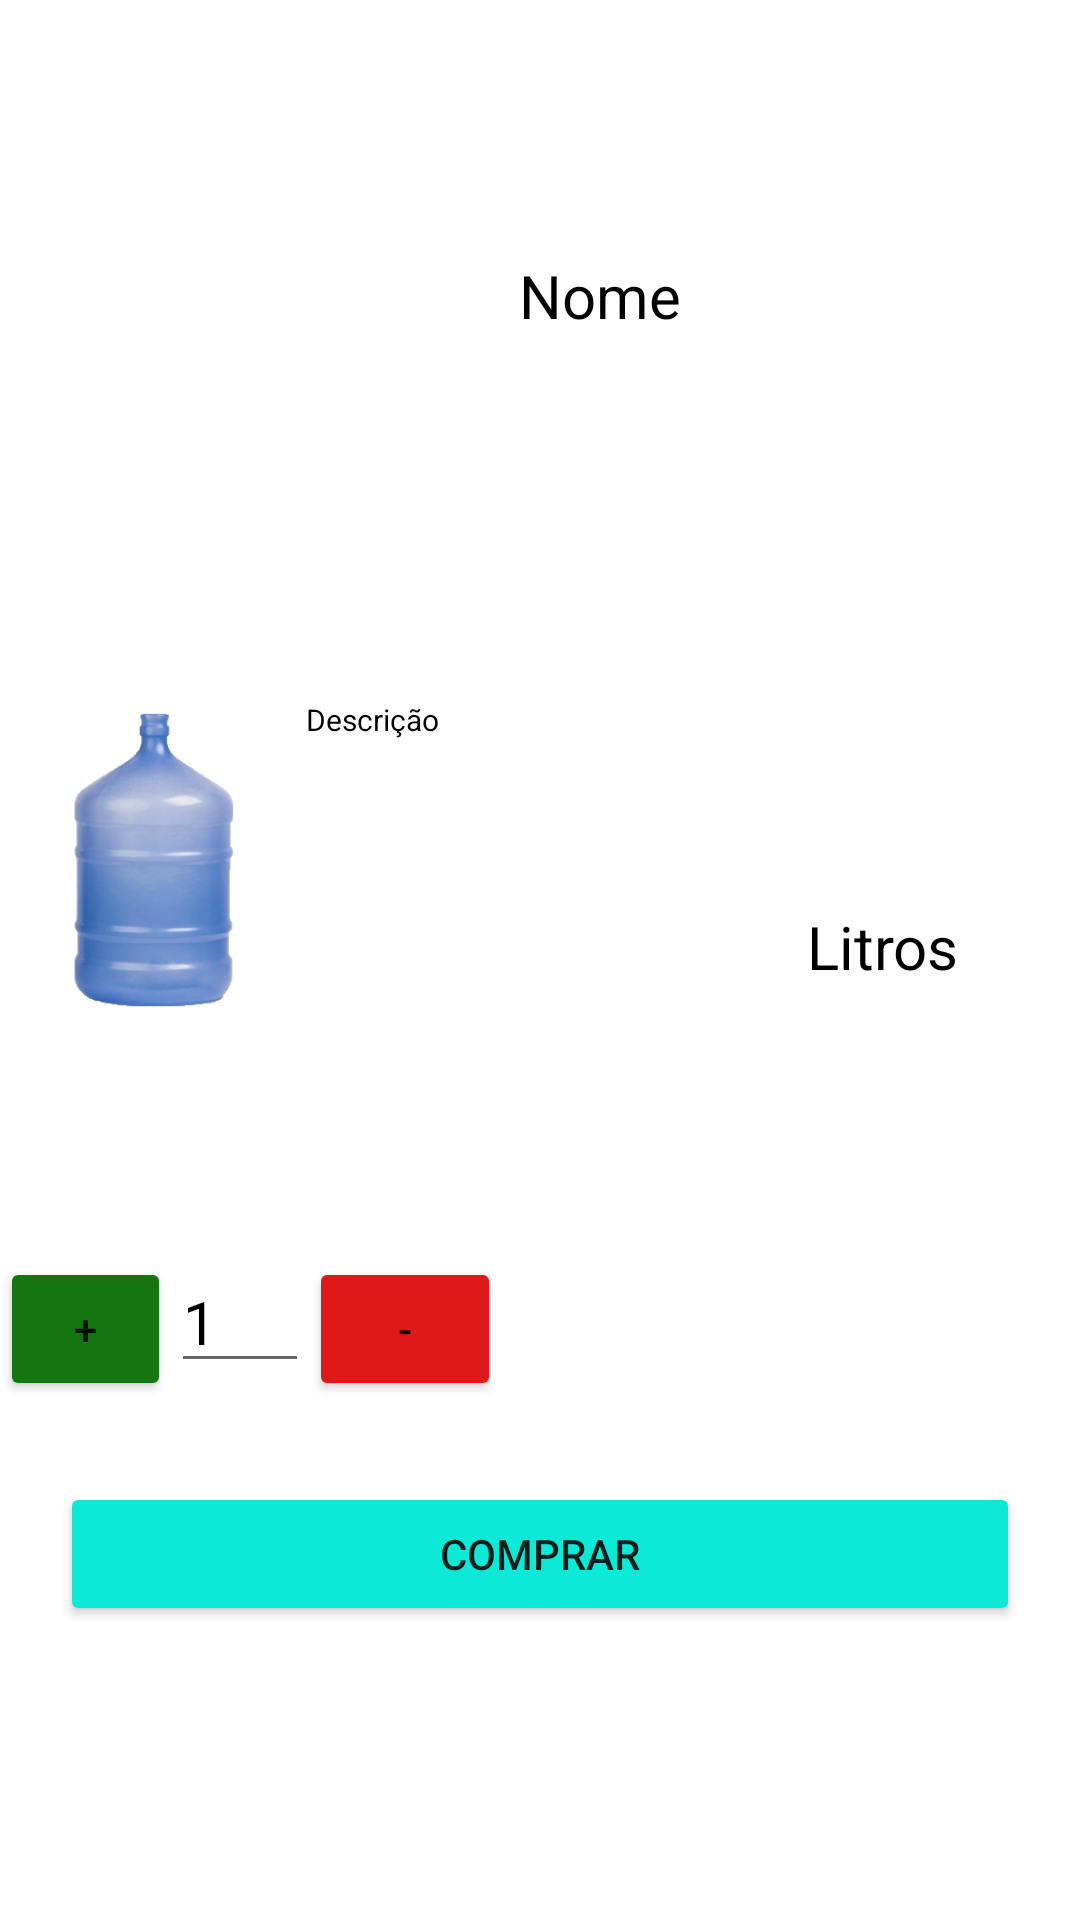

Where icons sit on this 1080px x 1920px app screen, as (x1, y1, x2, y2):
garrafao: (74, 714, 233, 1007)
